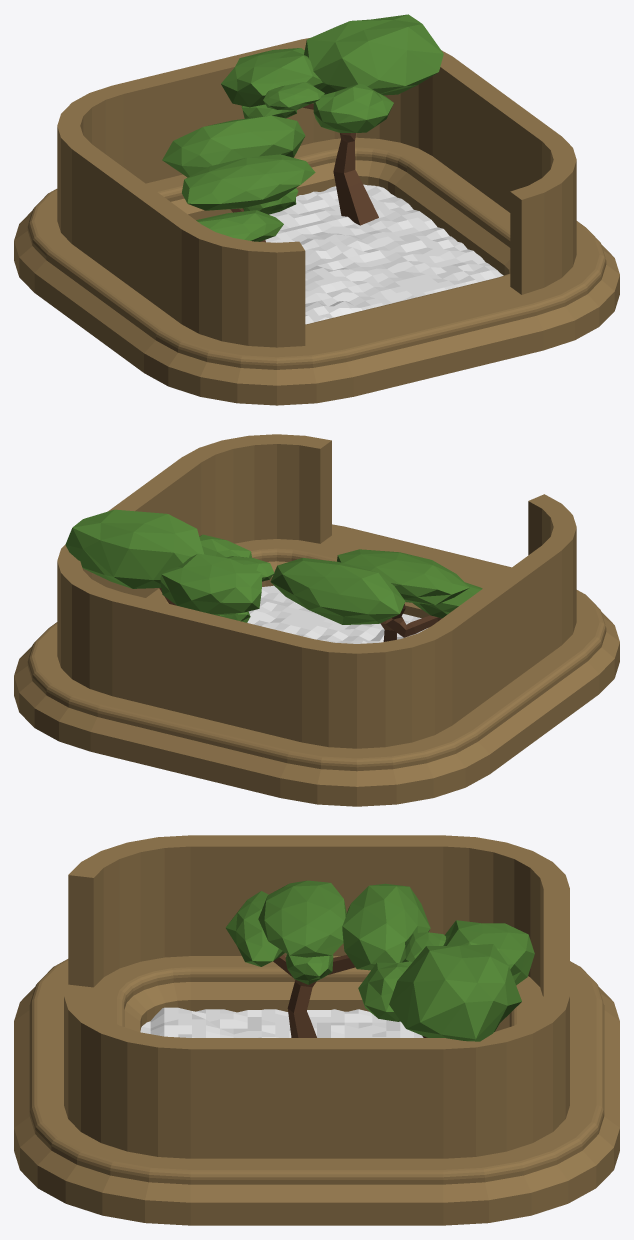
File: KandangMonyet2.fbx
3 renders of one model, top to bottom at view 1: azimuth 30°, elevation 25°; view 2: azimuth 150°, elevation 25°; view 3: azimuth 270°, elevation 25°, orthographic. The views are drawn at different scales.
Visible parts, largest first — view 1: Wall, Leaf, Ground, Tree; view 2: Wall, Leaf, Ground, Tree; view 3: Wall, Leaf, Ground, Tree.
Part boxes in pixels (x1,y1,x2,y2): Wall: (14, 38, 619, 405); Leaf: (162, 14, 443, 241); Ground: (265, 184, 503, 324); Tree: (230, 103, 378, 242); Wall: (14, 434, 619, 806); Leaf: (65, 509, 482, 624); Ground: (247, 585, 427, 643); Tree: (159, 588, 441, 641); Wall: (14, 835, 619, 1225); Leaf: (225, 880, 534, 1041); Ground: (140, 1007, 423, 1037); Tree: (273, 955, 427, 1037).
Size of the model in its own units: 3120 by 1181 by 3120.
